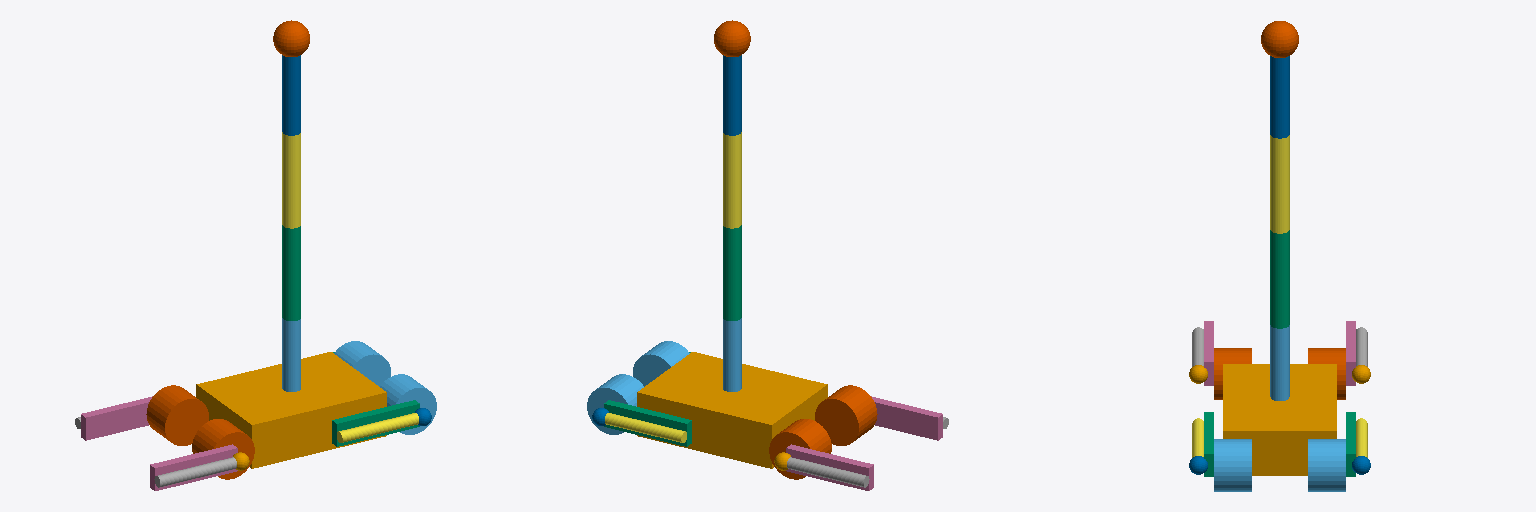
--- Facts derived from the render (not from the file) ---
3 views of the same robot in one strip: view 1: azimuth 30°, elevation 25°; view 2: azimuth 150°, elevation 25°; view 3: azimuth 270°, elevation 25° (orthographic).
Robot: spirit — 22 links, 21 joints (16 revolute, 5 fixed); root link body; default pose: every joint at zero.
Visible links, largest first — view 1: body, hip1, upper1, tail_link_1, tail_link_2, hip3, tail_link_3, hip2, upper2, upper3, hip0, tail_link_0 (+3 smaller); view 2: body, hip3, upper3, tail_link_1, tail_link_2, hip1, tail_link_3, hip0, upper0, upper1, hip2, tail_link_0 (+3 smaller); view 3: body, hip0, hip2, tail_link_1, tail_link_2, tail_link_3, tail_link_0, tail_mass, hip1, hip3, upper0, upper2 (+2 smaller).
Link boxes in pixels (box(x1,y1,x2,y2)): body: box(196, 352, 386, 468); hip1: box(146, 385, 208, 445); upper1: box(81, 396, 152, 440); tail_link_1: box(282, 225, 300, 320); tail_link_2: box(282, 132, 300, 228); hip3: box(192, 419, 254, 479); tail_link_3: box(282, 55, 300, 135); hip2: box(380, 374, 436, 434); upper2: box(332, 400, 419, 446); upper3: box(150, 444, 237, 490); hip0: box(334, 341, 390, 386); tail_link_0: box(282, 318, 300, 391); body: box(637, 352, 827, 468); hip3: box(815, 385, 877, 445); upper3: box(871, 396, 942, 440); tail_link_1: box(723, 225, 741, 320); tail_link_2: box(723, 132, 741, 228); hip1: box(769, 419, 831, 479); tail_link_3: box(723, 55, 741, 135); hip0: box(587, 374, 643, 434); upper0: box(604, 400, 691, 446); upper1: box(786, 444, 873, 490); hip2: box(633, 341, 689, 386); tail_link_0: box(723, 318, 741, 391); body: box(1223, 364, 1336, 475); hip0: box(1308, 439, 1345, 491); hip2: box(1214, 439, 1251, 491); tail_link_1: box(1270, 230, 1289, 328); tail_link_2: box(1270, 135, 1289, 233); tail_link_3: box(1270, 56, 1289, 138); tail_link_0: box(1270, 325, 1289, 400); tail_mass: box(1261, 21, 1298, 57); hip1: box(1308, 348, 1345, 399); hip3: box(1214, 348, 1251, 399); upper0: box(1346, 412, 1355, 476); upper2: box(1204, 412, 1213, 476).
Size in the robot's own frame: 0.7136 by 0.382 by 0.9766 metres.
Geometry: primitives only (box / cylinder / sphere), no mesh files.

The robot description file, URDF, robot "spirit":
<?xml version="1.0" encoding="utf-8"?>
<!-- =================================================================================== -->
<!-- |    This document was autogenerated by xacro from xacro/spirit_gazebo_tail.urdf.xacro | -->
<!-- |    EDITING THIS FILE BY HAND IS NOT RECOMMENDED                                 | -->
<!-- =================================================================================== -->
<!-- 
MIT License (modified)

Copyright (c) 2020 Ghost Robotics
Authors:
Avik De <[email redacted]>
Tom Jacobs <[email redacted]>

Permission is hereby granted, free of charge, to any person obtaining a copy
of this **file** (the "Software"), to deal
in the Software without restriction, including without limitation the rights
to use, copy, modify, merge, publish, distribute, sublicense, and/or sell
copies of the Software, and to permit persons to whom the Software is
furnished to do so, subject to the following conditions:

The above copyright notice and this permission notice shall be included in all
copies or substantial portions of the Software.

THE SOFTWARE IS PROVIDED "AS IS", WITHOUT WARRANTY OF ANY KIND, EXPRESS OR
IMPLIED, INCLUDING BUT NOT LIMITED TO THE WARRANTIES OF MERCHANTABILITY,
FITNESS FOR A PARTICULAR PURPOSE AND NONINFRINGEMENT. IN NO EVENT SHALL THE
AUTHORS OR COPYRIGHT HOLDERS BE LIABLE FOR ANY CLAIM, DAMAGES OR OTHER
LIABILITY, WHETHER IN AN ACTION OF CONTRACT, TORT OR OTHERWISE, ARISING FROM,
OUT OF OR IN CONNECTION WITH THE SOFTWARE OR THE USE OR OTHER DEALINGS IN THE
SOFTWARE. 
-->
<robot name="spirit">
  <!-- Plugins -->
  <gazebo>
    <plugin filename="libgazebo_ros_control.so" name="gazebo_ros_control">
      <robotNamespace>/spirit</robotNamespace>
      <controlPeriod>0.002</controlPeriod>
    </plugin>
    <plugin filename="libground_truth_estimator.so" name="ground_truth_estimator">
      <updateRateHz>500.0</updateRateHz>
    </plugin>
  </gazebo>
  <!--link name="body_dummy">
		<inertial>
			<mass value="${bodyMass}" />
			<inertia ixx="0.05" ixy="0" ixz="0" iyy="0.1" iyz="0" izz="0.1" />
		</inertial>
	</link>
	<joint name="dummy_joint" type="fixed">
		<parent link="body_dummy" />
		<child link="body" />
	</joint-->
  <!-- Body -->
  <link name="body">
    <visual>
      <origin rpy="0 0 0" xyz="0 0 0"/>
      <geometry>
        <box size="0.335 0.24 0.104"/>
      </geometry>
      <material name="darkgray"/>
    </visual>
    <inertial>
      <mass value="7.388"/>
      <!--<mass value="${bodyMass}" /> -->
      <!-- Uniform box -->
      <!-- <inertia ixx="1/12*${bodyMass}*(${bodyWidth}*${bodyWidth} + ${bodyHeight}*${bodyHeight})"  ixy="0"  ixz="0" iyy="1/12*${bodyMass}*(${bodyLength}*${bodyLength} + ${bodyHeight}*${bodyHeight})" iyz="0" izz="1/12*${bodyMass}*(${bodyLength}*${bodyLength} + ${bodyWidth}*${bodyWidth})"/> -->
      <inertia ixx="0.0642434782" ixy="0" ixz="0" iyy="0.1284869565" iyz="0" izz="0.1284869565"/>
      <!--<inertia ixx="0.05" ixy="0" ixz="0" iyy="0.1" iyz="0" izz="0.1" />-->
    </inertial>
    <!-- Just copy geometry for collision -->
    <collision>
      <origin rpy="0 0 0" xyz="0 0 0"/>
      <geometry>
        <box size="0.335 0.24 0.104"/>
      </geometry>
    </collision>
  </link>
  <gazebo reference="body">
    <material>Gazebo/Black</material>
  </gazebo>
  <!-- Hip motor -->
  <link name="hip0">
    <visual>
      <origin rpy="1.5707963268 0 0" xyz="0 0.028 0"/>
      <geometry>
        <cylinder length="0.08" radius="0.055"/>
      </geometry>
    </visual>
    <collision>
      <origin rpy="1.5707963268 0 0" xyz="0 0.028 0"/>
      <geometry>
        <cylinder length="0.08" radius="0.055"/>
      </geometry>
    </collision>
    <inertial>
      <origin rpy="1.5707963268 0 0" xyz="0 0.028 0"/>
      <mass value="0.575"/>
      <inertia ixx="0.000741510416667" ixy="0" ixz="0" iyy="0.000741510416667" iyz="0" izz="0.0008696875"/>
      <!-- Okay for now... forgot when cylinder is formed what direction is x pointing in -->
      <!--inertia ixx="0.00066963541" ixy="0" ixz="0" iyy="0.00066963541" iyz="0" izz="0.0008696875" /-->
    </inertial>
  </link>
  <gazebo reference="hip0">
    <material>Gazebo/Grey</material>
  </gazebo>
  <!-- Abduction joint. Joint names are: 8 9 10 11 -->
  <joint name="8" type="revolute">
    <parent link="body"/>
    <child link="hip0"/>
    <axis xyz="1 0 0"/>
    <origin xyz="0.2263 0.07 0"/>
    <limit effort="21" lower="-0.707" upper="0.707" velocity="37.7"/>
    <dynamics damping="0.0" friction="0.0"/>
  </joint>
  <!-- Transmission elements required for Gazebo -->
  <transmission name="transmission_8">
    <type>transmission_interface/SimpleTransmission</type>
    <joint name="8">
      <hardwareInterface>hardware_interface/EffortJointInterface</hardwareInterface>
    </joint>
    <actuator name="motor_8">
      <hardwareInterface>EffortJointInterface</hardwareInterface>
      <mechanicalReduction>1</mechanicalReduction>
    </actuator>
  </transmission>
  <!-- Upper leg -->
  <link name="upper0">
    <visual>
      <origin rpy="0 0 0" xyz="-0.103 -0.022 0"/>
      <geometry>
        <box size="0.206 0.022 0.055"/>
      </geometry>
      <material name="silver"/>
    </visual>
    <collision>
      <origin rpy="0 0 0" xyz="-0.103 -0.022 0"/>
      <geometry>
        <box size="0.206 0.022 0.055"/>
      </geometry>
    </collision>
    <inertial>
      <origin rpy="0 0 0" xyz="-0.103 -0.022 0"/>
      <mass value="0.792"/>
      <!--<inertia ixx="${upperLegIxx}" ixy="0" ixz="0" iyy="${upperLegIyy}" iyz="0" izz="${upperLegIzz}" /> -->
      <inertia ixx="0.000231594" ixy="0" ixz="0" iyy="0.003000426" iyz="0" izz="0.00283272"/>
    </inertial>
  </link>
  <gazebo reference="upper0">
    <self_collide>0</self_collide>
    <material>Gazebo/DarkGrey</material>
  </gazebo>
  <!-- Hip joint. (Motor to upper leg). Joint names are: 0 2 4 6 -->
  <joint name="0" type="revolute">
    <parent link="hip0"/>
    <child link="upper0"/>
    <axis xyz="0 -1 0"/>
    <origin xyz="0 0.10098 0"/>
    <!--  rpy="0 -0.3 0" -->
    <limit effort="21" lower="-1.57" upper="3.14" velocity="37.7"/>
    <dynamics damping="0.0" friction="0.0"/>
  </joint>
  <!-- Transmission elements required for Gazebo -->
  <transmission name="transmission_0">
    <type>transmission_interface/SimpleTransmission</type>
    <joint name="0">
      <hardwareInterface>hardware_interface/EffortJointInterface</hardwareInterface>
    </joint>
    <actuator name="motor_0">
      <hardwareInterface>EffortJointInterface</hardwareInterface>
      <mechanicalReduction>1</mechanicalReduction>
    </actuator>
  </transmission>
  <!-- Lower leg -->
  <link name="lower0">
    <self_collide>0</self_collide>
    <visual>
      <origin rpy="0 1.5707963268 0" xyz="0.103 0 0"/>
      <geometry>
        <cylinder length="0.206" radius="0.013"/>
      </geometry>
      <material name="darkgray"/>
    </visual>
    <collision>
      <origin rpy="0 1.5707963268 0" xyz="0.103 0 0"/>
      <geometry>
        <cylinder length="0.206" radius="0.013"/>
      </geometry>
    </collision>
    <inertial>
      <origin rpy="0 0 0" xyz="0.103 0 0"/>
      <mass value="0.075"/>
      <!--inertia ixx="${lowerLegIxx}" ixy="0" ixz="0" iyy="${lowerLegIyy}" iyz="0" izz="${lowerLegIzz}" /-->
      <inertia ixx="2.193125e-05" ixy="0" ixz="0" iyy="0.00028413125" iyz="0" izz="0.00026825"/>
    </inertial>
  </link>
  <gazebo reference="lower0">
    <material>Gazebo/Grey</material>
  </gazebo>
  <!-- Knee joint. Joint names are: 1 3 5 7 -->
  <joint name="1" type="revolute">
    <parent link="upper0"/>
    <child link="lower0"/>
    <axis xyz="0 1 0"/>
    <origin xyz="-0.206 0 0"/>
    <!--rpy="0 0.5 0"-->
    <!--<limit effort="${jointEffortLimit}" velocity="${jointSpeedLimit}" lower="0" upper="${pi}" />-->
    <limit effort="32" lower="-6.28" upper="6.28" velocity="25.1"/>
    <dynamics damping="0.0" friction="0.0"/>
  </joint>
  <!-- Transmission elements required for Gazebo -->
  <transmission name="transmission_1">
    <type>transmission_interface/SimpleTransmission</type>
    <joint name="1">
      <hardwareInterface>hardware_interface/EffortJointInterface</hardwareInterface>
    </joint>
    <actuator name="motor_1">
      <hardwareInterface>EffortJointInterface</hardwareInterface>
      <mechanicalReduction>1</mechanicalReduction>
    </actuator>
  </transmission>
  <!-- Toe -->
  <link name="toe0">
    <contact>
      <friction_anchor/>
      <stiffness value="30000.0"/>
      <damping value="1000.0"/>
      <spinning_friction value="0.3"/>
      <lateral_friction value="50.0"/>
    </contact>
    <visual>
      <origin rpy="0 0 0" xyz="0 0 0"/>
      <geometry>
        <sphere radius="0.02"/>
      </geometry>
      <material name="darkgray"/>
    </visual>
    <collision>
      <origin rpy="0 0 0" xyz="0 0 0"/>
      <geometry>
        <sphere radius="0.02"/>
      </geometry>
    </collision>
    <inertial>
      <mass value="0.015"/>
      <inertia ixx="0.000025" ixy="0" ixz="0" iyy="0.000025" iyz="0" izz="0.000025"/>
      <!-- <inertia ixx="2/5*${toeMass}*${toeRadius}*${toeRadius}"  ixy="0"  ixz="0" iyy="2/5*${toeMass}*${toeRadius}*${toeRadius}" iyz="0" izz="2/5*${toeMass}*${toeRadius}*${toeRadius}" /> -->
    </inertial>
  </link>
  <gazebo reference="toe0">
    <self_collide>0</self_collide>
    <material>Gazebo/Black</material>
    <collision>
      <surface>
        <bounce>
          <restitution_coefficient>0</restitution_coefficient>
          <threshold>1e+06</threshold>
        </bounce>
        <friction>
          <torsional>
            <coefficient>0.3</coefficient>
          </torsional>
          <ode>
            <mu>100.0</mu>
            <mu2>50.0</mu2>
          </ode>
          <bullet>
            <rolling_friction>0.3</rolling_friction>
            <friction2>50.0</friction2>
          </bullet>
        </friction>
        <contact>
          <bullet>
            <kp>30000.0</kp>
            <kd>1000.0</kd>
          </bullet>
          <ode>
            <kp>30000.0</kp>
            <kd>1000.0</kd>
          </ode>
        </contact>
      </surface>
    </collision>
  </gazebo>
  <joint name="jtoe0" type="fixed">
    <parent link="lower0"/>
    <child link="toe0"/>
    <origin xyz="0.206 0 -0.0"/>
    <dynamics damping="0.0" friction="0.0"/>
  </joint>
  <!-- Hip motor -->
  <link name="hip1">
    <visual>
      <origin rpy="1.5707963268 0 0" xyz="0 0.028 0"/>
      <geometry>
        <cylinder length="0.08" radius="0.055"/>
      </geometry>
    </visual>
    <collision>
      <origin rpy="1.5707963268 0 0" xyz="0 0.028 0"/>
      <geometry>
        <cylinder length="0.08" radius="0.055"/>
      </geometry>
    </collision>
    <inertial>
      <origin rpy="1.5707963268 0 0" xyz="0 0.028 0"/>
      <mass value="0.575"/>
      <inertia ixx="0.000741510416667" ixy="0" ixz="0" iyy="0.000741510416667" iyz="0" izz="0.0008696875"/>
      <!-- Okay for now... forgot when cylinder is formed what direction is x pointing in -->
      <!--inertia ixx="0.00066963541" ixy="0" ixz="0" iyy="0.00066963541" iyz="0" izz="0.0008696875" /-->
    </inertial>
  </link>
  <gazebo reference="hip1">
    <material>Gazebo/Grey</material>
  </gazebo>
  <!-- Abduction joint. Joint names are: 8 9 10 11 -->
  <joint name="9" type="revolute">
    <parent link="body"/>
    <child link="hip1"/>
    <axis xyz="1 0 0"/>
    <origin xyz="-0.2263 0.07 0"/>
    <limit effort="21" lower="-0.707" upper="0.707" velocity="37.7"/>
    <dynamics damping="0.0" friction="0.0"/>
  </joint>
  <!-- Transmission elements required for Gazebo -->
  <transmission name="transmission_9">
    <type>transmission_interface/SimpleTransmission</type>
    <joint name="9">
      <hardwareInterface>hardware_interface/EffortJointInterface</hardwareInterface>
    </joint>
    <actuator name="motor_9">
      <hardwareInterface>EffortJointInterface</hardwareInterface>
      <mechanicalReduction>1</mechanicalReduction>
    </actuator>
  </transmission>
  <!-- Upper leg -->
  <link name="upper1">
    <visual>
      <origin rpy="0 0 0" xyz="-0.103 -0.022 0"/>
      <geometry>
        <box size="0.206 0.022 0.055"/>
      </geometry>
      <material name="silver"/>
    </visual>
    <collision>
      <origin rpy="0 0 0" xyz="-0.103 -0.022 0"/>
      <geometry>
        <box size="0.206 0.022 0.055"/>
      </geometry>
    </collision>
    <inertial>
      <origin rpy="0 0 0" xyz="-0.103 -0.022 0"/>
      <mass value="0.792"/>
      <!--<inertia ixx="${upperLegIxx}" ixy="0" ixz="0" iyy="${upperLegIyy}" iyz="0" izz="${upperLegIzz}" /> -->
      <inertia ixx="0.000231594" ixy="0" ixz="0" iyy="0.003000426" iyz="0" izz="0.00283272"/>
    </inertial>
  </link>
  <gazebo reference="upper1">
    <self_collide>0</self_collide>
    <material>Gazebo/DarkGrey</material>
  </gazebo>
  <!-- Hip joint. (Motor to upper leg). Joint names are: 0 2 4 6 -->
  <joint name="2" type="revolute">
    <parent link="hip1"/>
    <child link="upper1"/>
    <axis xyz="0 -1 0"/>
    <origin xyz="0 0.10098 0"/>
    <!--  rpy="0 -0.3 0" -->
    <limit effort="21" lower="-1.57" upper="3.14" velocity="37.7"/>
    <dynamics damping="0.0" friction="0.0"/>
  </joint>
  <!-- Transmission elements required for Gazebo -->
  <transmission name="transmission_2">
    <type>transmission_interface/SimpleTransmission</type>
    <joint name="2">
      <hardwareInterface>hardware_interface/EffortJointInterface</hardwareInterface>
    </joint>
    <actuator name="motor_2">
      <hardwareInterface>EffortJointInterface</hardwareInterface>
      <mechanicalReduction>1</mechanicalReduction>
    </actuator>
  </transmission>
  <!-- Lower leg -->
  <link name="lower1">
    <self_collide>0</self_collide>
    <visual>
      <origin rpy="0 1.5707963268 0" xyz="0.103 0 0"/>
      <geometry>
        <cylinder length="0.206" radius="0.013"/>
      </geometry>
      <material name="darkgray"/>
    </visual>
    <collision>
      <origin rpy="0 1.5707963268 0" xyz="0.103 0 0"/>
      <geometry>
        <cylinder length="0.206" radius="0.013"/>
      </geometry>
    </collision>
    <inertial>
      <origin rpy="0 0 0" xyz="0.103 0 0"/>
      <mass value="0.075"/>
      <!--inertia ixx="${lowerLegIxx}" ixy="0" ixz="0" iyy="${lowerLegIyy}" iyz="0" izz="${lowerLegIzz}" /-->
      <inertia ixx="2.193125e-05" ixy="0" ixz="0" iyy="0.00028413125" iyz="0" izz="0.00026825"/>
    </inertial>
  </link>
  <gazebo reference="lower1">
    <material>Gazebo/Grey</material>
  </gazebo>
  <!-- Knee joint. Joint names are: 1 3 5 7 -->
  <joint name="3" type="revolute">
    <parent link="upper1"/>
    <child link="lower1"/>
    <axis xyz="0 1 0"/>
    <origin xyz="-0.206 0 0"/>
    <!--rpy="0 0.5 0"-->
    <!--<limit effort="${jointEffortLimit}" velocity="${jointSpeedLimit}" lower="0" upper="${pi}" />-->
    <limit effort="32" lower="-6.28" upper="6.28" velocity="25.1"/>
    <dynamics damping="0.0" friction="0.0"/>
  </joint>
  <!-- Transmission elements required for Gazebo -->
  <transmission name="transmission_3">
    <type>transmission_interface/SimpleTransmission</type>
    <joint name="3">
      <hardwareInterface>hardware_interface/EffortJointInterface</hardwareInterface>
    </joint>
    <actuator name="motor_3">
      <hardwareInterface>EffortJointInterface</hardwareInterface>
      <mechanicalReduction>1</mechanicalReduction>
    </actuator>
  </transmission>
  <!-- Toe -->
  <link name="toe1">
    <contact>
      <friction_anchor/>
      <stiffness value="30000.0"/>
      <damping value="1000.0"/>
      <spinning_friction value="0.3"/>
      <lateral_friction value="50.0"/>
    </contact>
    <visual>
      <origin rpy="0 0 0" xyz="0 0 0"/>
      <geometry>
        <sphere radius="0.02"/>
      </geometry>
      <material name="darkgray"/>
    </visual>
    <collision>
      <origin rpy="0 0 0" xyz="0 0 0"/>
      <geometry>
        <sphere radius="0.02"/>
      </geometry>
    </collision>
    <inertial>
      <mass value="0.015"/>
      <inertia ixx="0.000025" ixy="0" ixz="0" iyy="0.000025" iyz="0" izz="0.000025"/>
      <!-- <inertia ixx="2/5*${toeMass}*${toeRadius}*${toeRadius}"  ixy="0"  ixz="0" iyy="2/5*${toeMass}*${toeRadius}*${toeRadius}" iyz="0" izz="2/5*${toeMass}*${toeRadius}*${toeRadius}" /> -->
    </inertial>
  </link>
  <gazebo reference="toe1">
    <self_collide>0</self_collide>
    <material>Gazebo/Black</material>
    <collision>
      <surface>
        <bounce>
          <restitution_coefficient>0</restitution_coefficient>
          <threshold>1e+06</threshold>
        </bounce>
        <friction>
          <torsional>
            <coefficient>0.3</coefficient>
          </torsional>
          <ode>
            <mu>100.0</mu>
            <mu2>50.0</mu2>
          </ode>
          <bullet>
            <rolling_friction>0.3</rolling_friction>
            <friction2>50.0</friction2>
          </bullet>
        </friction>
        <contact>
          <bullet>
            <kp>30000.0</kp>
            <kd>1000.0</kd>
          </bullet>
          <ode>
            <kp>30000.0</kp>
            <kd>1000.0</kd>
          </ode>
        </contact>
      </surface>
    </collision>
  </gazebo>
  <joint name="jtoe1" type="fixed">
    <parent link="lower1"/>
    <child link="toe1"/>
    <origin xyz="0.206 0 -0.0"/>
    <dynamics damping="0.0" friction="0.0"/>
  </joint>
  <!-- Hip motor -->
  <link name="hip2">
    <visual>
      <origin rpy="1.5707963268 0 0" xyz="0 -0.028 0"/>
      <geometry>
        <cylinder length="0.08" radius="0.055"/>
      </geometry>
    </visual>
    <collision>
      <origin rpy="1.5707963268 0 0" xyz="0 -0.028 0"/>
      <geometry>
        <cylinder length="0.08" radius="0.055"/>
      </geometry>
    </collision>
    <inertial>
      <origin rpy="1.5707963268 0 0" xyz="0 -0.028 0"/>
      <mass value="0.575"/>
      <inertia ixx="0.000741510416667" ixy="0" ixz="0" iyy="0.000741510416667" iyz="0" izz="0.0008696875"/>
      <!-- Okay for now... forgot when cylinder is formed what direction is x pointing in -->
      <!--inertia ixx="0.00066963541" ixy="0" ixz="0" iyy="0.00066963541" iyz="0" izz="0.0008696875" /-->
    </inertial>
  </link>
  <gazebo reference="hip2">
    <material>Gazebo/Grey</material>
  </gazebo>
  <!-- Abduction joint. Joint names are: 8 9 10 11 -->
  <joint name="10" type="revolute">
    <parent link="body"/>
    <child link="hip2"/>
    <axis xyz="1 0 0"/>
    <origin xyz="0.2263 -0.07 0"/>
    <limit effort="21" lower="-0.707" upper="0.707" velocity="37.7"/>
    <dynamics damping="0.0" friction="0.0"/>
  </joint>
  <!-- Transmission elements required for Gazebo -->
  <transmission name="transmission_10">
    <type>transmission_interface/SimpleTransmission</type>
    <joint name="10">
      <hardwareInterface>hardware_interface/EffortJointInterface</hardwareInterface>
    </joint>
    <actuator name="motor_10">
      <hardwareInterface>EffortJointInterface</hardwareInterface>
      <mechanicalReduction>1</mechanicalReduction>
    </actuator>
  </transmission>
  <!-- Upper leg -->
  <link name="upper2">
    <visual>
      <origin rpy="0 0 0" xyz="-0.103 0.022 0"/>
      <geometry>
        <box size="0.206 0.022 0.055"/>
      </geometry>
      <material name="silver"/>
    </visual>
    <collision>
      <origin rpy="0 0 0" xyz="-0.103 0.022 0"/>
      <geometry>
        <box size="0.206 0.022 0.055"/>
      </geometry>
    </collision>
    <inertial>
      <origin rpy="0 0 0" xyz="-0.103 0.022 0"/>
      <mass value="0.792"/>
      <!--<inertia ixx="${upperLegIxx}" ixy="0" ixz="0" iyy="${upperLegIyy}" iyz="0" izz="${upperLegIzz}" /> -->
      <inertia ixx="0.000231594" ixy="0" ixz="0" iyy="0.003000426" iyz="0" izz="0.00283272"/>
    </inertial>
  </link>
  <gazebo reference="upper2">
    <self_collide>0</self_collide>
    <material>Gazebo/DarkGrey</material>
  </gazebo>
  <!-- Hip joint. (Motor to upper leg). Joint names are: 0 2 4 6 -->
  <joint name="4" type="revolute">
    <parent link="hip2"/>
    <child link="upper2"/>
    <axis xyz="0 -1 0"/>
    <origin xyz="0 -0.10098 0"/>
    <!--  rpy="0 -0.3 0" -->
    <limit effort="21" lower="-1.57" upper="3.14" velocity="37.7"/>
    <dynamics damping="0.0" friction="0.0"/>
  </joint>
  <!-- Transmission elements required for Gazebo -->
  <transmission name="transmission_4">
    <type>transmission_interface/SimpleTransmission</type>
    <joint name="4">
      <hardwareInterface>hardware_interface/EffortJointInterface</hardwareInterface>
    </joint>
    <actuator name="motor_4">
      <hardwareInterface>EffortJointInterface</hardwareInterface>
      <mechanicalReduction>1</mechanicalReduction>
    </actuator>
  </transmission>
  <!-- Lower leg -->
  <link name="lower2">
    <self_collide>0</self_collide>
    <visual>
      <origin rpy="0 1.5707963268 0" xyz="0.103 0 0"/>
      <geometry>
        <cylinder length="0.206" radius="0.013"/>
      </geometry>
      <material name="darkgray"/>
    </visual>
    <collision>
      <origin rpy="0 1.5707963268 0" xyz="0.103 0 0"/>
      <geometry>
        <cylinder length="0.206" radius="0.013"/>
      </geometry>
    </collision>
    <inertial>
      <origin rpy="0 0 0" xyz="0.103 0 0"/>
      <mass value="0.075"/>
      <!--inertia ixx="${lowerLegIxx}" ixy="0" ixz="0" iyy="${lowerLegIyy}" iyz="0" izz="${lowerLegIzz}" /-->
      <inertia ixx="2.193125e-05" ixy="0" ixz="0" iyy="0.00028413125" iyz="0" izz="0.00026825"/>
    </inertial>
  </link>
  <gazebo reference="lower2">
    <material>Gazebo/Grey</material>
  </gazebo>
  <!-- Knee joint. Joint names are: 1 3 5 7 -->
  <joint name="5" type="revolute">
    <parent link="upper2"/>
    <child link="lower2"/>
    <axis xyz="0 1 0"/>
    <origin xyz="-0.206 0 0"/>
    <!--rpy="0 0.5 0"-->
    <!--<limit effort="${jointEffortLimit}" velocity="${jointSpeedLimit}" lower="0" upper="${pi}" />-->
    <limit effort="32" lower="-6.28" upper="6.28" velocity="25.1"/>
    <dynamics damping="0.0" friction="0.0"/>
  </joint>
  <!-- Transmission elements required for Gazebo -->
  <transmission name="transmission_5">
    <type>transmission_interface/SimpleTransmission</type>
    <joint name="5">
      <hardwareInterface>hardware_interface/EffortJointInterface</hardwareInterface>
    </joint>
    <actuator name="motor_5">
      <hardwareInterface>EffortJointInterface</hardwareInterface>
      <mechanicalReduction>1</mechanicalReduction>
    </actuator>
  </transmission>
  <!-- Toe -->
  <link name="toe2">
    <contact>
      <friction_anchor/>
      <stiffness value="30000.0"/>
      <damping value="1000.0"/>
      <spinning_friction value="0.3"/>
      <lateral_friction value="50.0"/>
    </contact>
    <visual>
      <origin rpy="0 0 0" xyz="0 0 0"/>
      <geometry>
        <sphere radius="0.02"/>
      </geometry>
      <material name="darkgray"/>
    </visual>
    <collision>
      <origin rpy="0 0 0" xyz="0 0 0"/>
      <geometry>
        <sphere radius="0.02"/>
      </geometry>
    </collision>
    <inertial>
      <mass value="0.015"/>
      <inertia ixx="0.000025" ixy="0" ixz="0" iyy="0.000025" iyz="0" izz="0.000025"/>
      <!-- <inertia ixx="2/5*${toeMass}*${toeRadius}*${toeRadius}"  ixy="0"  ixz="0" iyy="2/5*${toeMass}*${toeRadius}*${toeRadius}" iyz="0" izz="2/5*${toeMass}*${toeRadius}*${toeRadius}" /> -->
    </inertial>
  </link>
  <gazebo reference="toe2">
    <self_collide>0</self_collide>
    <material>Gazebo/Black</material>
    <collision>
      <surface>
        <bounce>
          <restitution_coefficient>0</restitution_coefficient>
          <threshold>1e+06</threshold>
        </bounce>
        <friction>
          <torsional>
            <coefficient>0.3</coefficient>
          </torsional>
          <ode>
            <mu>100.0</mu>
            <mu2>50.0</mu2>
          </ode>
          <bullet>
            <rolling_friction>0.3</rolling_friction>
            <friction2>50.0</friction2>
          </bullet>
        </friction>
        <contact>
          <bullet>
            <kp>30000.0</kp>
            <kd>1000.0</kd>
          </bullet>
          <ode>
            <kp>30000.0</kp>
            <kd>1000.0</kd>
          </ode>
        </contact>
      </surface>
    </collision>
  </gazebo>
  <joint name="jtoe2" type="fixed">
    <parent link="lower2"/>
    <child link="toe2"/>
    <origin xyz="0.206 0 -0.0"/>
    <dynamics damping="0.0" friction="0.0"/>
  </joint>
  <!-- Hip motor -->
  <link name="hip3">
    <visual>
      <origin rpy="1.5707963268 0 0" xyz="0 -0.028 0"/>
      <geometry>
        <cylinder length="0.08" radius="0.055"/>
      </geometry>
    </visual>
    <collision>
      <origin rpy="1.5707963268 0 0" xyz="0 -0.028 0"/>
      <geometry>
        <cylinder length="0.08" radius="0.055"/>
      </geometry>
    </collision>
    <inertial>
      <origin rpy="1.5707963268 0 0" xyz="0 -0.028 0"/>
      <mass value="0.575"/>
      <inertia ixx="0.000741510416667" ixy="0" ixz="0" iyy="0.000741510416667" iyz="0" izz="0.0008696875"/>
      <!-- Okay for now... forgot when cylinder is formed what direction is x pointing in -->
      <!--inertia ixx="0.00066963541" ixy="0" ixz="0" iyy="0.00066963541" iyz="0" izz="0.0008696875" /-->
    </inertial>
  </link>
  <gazebo reference="hip3">
    <material>Gazebo/Grey</material>
  </gazebo>
  <!-- Abduction joint. Joint names are: 8 9 10 11 -->
  <joint name="11" type="revolute">
    <parent link="body"/>
    <child link="hip3"/>
    <axis xyz="1 0 0"/>
    <origin xyz="-0.2263 -0.07 0"/>
    <limit effort="21" lower="-0.707" upper="0.707" velocity="37.7"/>
    <dynamics damping="0.0" friction="0.0"/>
  </joint>
  <!-- Transmission elements required for Gazebo -->
  <transmission name="transmission_11">
    <type>transmission_interface/SimpleTransmission</type>
    <joint name="11">
      <hardwareInterface>hardware_interface/EffortJointInterface</hardwareInterface>
    </joint>
    <actuator name="motor_11">
      <hardwareInterface>EffortJointInterface</hardwareInterface>
      <mechanicalReduction>1</mechanicalReduction>
    </actuator>
  </transmission>
  <!-- Upper leg -->
  <link name="upper3">
    <visual>
      <origin rpy="0 0 0" xyz="-0.103 0.022 0"/>
      <geometry>
        <box size="0.206 0.022 0.055"/>
      </geometry>
      <material name="silver"/>
    </visual>
    <collision>
      <origin rpy="0 0 0" xyz="-0.103 0.022 0"/>
      <geometry>
        <box size="0.206 0.022 0.055"/>
      </geometry>
    </collision>
    <inertial>
      <origin rpy="0 0 0" xyz="-0.103 0.022 0"/>
      <mass value="0.792"/>
      <!--<inertia ixx="${upperLegIxx}" ixy="0" ixz="0" iyy="${upperLegIyy}" iyz="0" izz="${upperLegIzz}" /> -->
      <inertia ixx="0.000231594" ixy="0" ixz="0" iyy="0.003000426" iyz="0" izz="0.00283272"/>
    </inertial>
  </link>
  <gazebo reference="upper3">
    <self_collide>0</self_collide>
    <material>Gazebo/DarkGrey</material>
  </gazebo>
  <!-- Hip joint. (Motor to upper leg). Joint names are: 0 2 4 6 -->
  <joint name="6" type="revolute">
    <parent link="hip3"/>
    <child link="upper3"/>
    <axis xyz="0 -1 0"/>
    <origin xyz="0 -0.10098 0"/>
    <!--  rpy="0 -0.3 0" -->
    <limit effort="21" lower="-1.57" upper="3.14" velocity="37.7"/>
    <dynamics damping="0.0" friction="0.0"/>
  </joint>
  <!-- Transmission elements required for Gazebo -->
  <transmission name="transmission_6">
    <type>transmission_interface/SimpleTransmission</type>
    <joint name="6">
      <hardwareInterface>hardware_interface/EffortJointInterface</hardwareInterface>
    </joint>
    <actuator name="motor_6">
      <hardwareInterface>EffortJointInterface</hardwareInterface>
      <mechanicalReduction>1</mechanicalReduction>
    </actuator>
  </transmission>
  <!-- Lower leg -->
  <link name="lower3">
    <self_collide>0</self_collide>
    <visual>
      <origin rpy="0 1.5707963268 0" xyz="0.103 0 0"/>
      <geometry>
        <cylinder length="0.206" radius="0.013"/>
      </geometry>
      <material name="darkgray"/>
    </visual>
    <collision>
      <origin rpy="0 1.5707963268 0" xyz="0.103 0 0"/>
      <geometry>
        <cylinder length="0.206" radius="0.013"/>
      </geometry>
    </collision>
    <inertial>
      <origin rpy="0 0 0" xyz="0.103 0 0"/>
      <mass value="0.075"/>
      <!--inertia ixx="${lowerLegIxx}" ixy="0" ixz="0" iyy="${lowerLegIyy}" iyz="0" izz="${lowerLegIzz}" /-->
      <inertia ixx="2.193125e-05" ixy="0" ixz="0" iyy="0.00028413125" iyz="0" izz="0.00026825"/>
    </inertial>
  </link>
  <gazebo reference="lower3">
    <material>Gazebo/Grey</material>
  </gazebo>
  <!-- Knee joint. Joint names are: 1 3 5 7 -->
  <joint name="7" type="revolute">
    <parent link="upper3"/>
    <child link="lower3"/>
    <axis xyz="0 1 0"/>
    <origin xyz="-0.206 0 0"/>
    <!--rpy="0 0.5 0"-->
    <!--<limit effort="${jointEffortLimit}" velocity="${jointSpeedLimit}" lower="0" upper="${pi}" />-->
    <limit effort="32" lower="-6.28" upper="6.28" velocity="25.1"/>
    <dynamics damping="0.0" friction="0.0"/>
  </joint>
  <!-- Transmission elements required for Gazebo -->
  <transmission name="transmission_7">
    <type>transmission_interface/SimpleTransmission</type>
    <joint name="7">
      <hardwareInterface>hardware_interface/EffortJointInterface</hardwareInterface>
    </joint>
    <actuator name="motor_7">
      <hardwareInterface>EffortJointInterface</hardwareInterface>
      <mechanicalReduction>1</mechanicalReduction>
    </actuator>
  </transmission>
  <!-- Toe -->
  <link name="toe3">
    <contact>
      <friction_anchor/>
      <stiffness value="30000.0"/>
      <damping value="1000.0"/>
      <spinning_friction value="0.3"/>
      <lateral_friction value="50.0"/>
    </contact>
    <visual>
      <origin rpy="0 0 0" xyz="0 0 0"/>
      <geometry>
        <sphere radius="0.02"/>
      </geometry>
      <material name="darkgray"/>
    </visual>
    <collision>
      <origin rpy="0 0 0" xyz="0 0 0"/>
      <geometry>
        <sphere radius="0.02"/>
      </geometry>
    </collision>
    <inertial>
      <mass value="0.015"/>
      <inertia ixx="0.000025" ixy="0" ixz="0" iyy="0.000025" iyz="0" izz="0.000025"/>
      <!-- <inertia ixx="2/5*${toeMass}*${toeRadius}*${toeRadius}"  ixy="0"  ixz="0" iyy="2/5*${toeMass}*${toeRadius}*${toeRadius}" iyz="0" izz="2/5*${toeMass}*${toeRadius}*${toeRadius}" /> -->
    </inertial>
  </link>
  <gazebo reference="toe3">
    <self_collide>0</self_collide>
    <material>Gazebo/Black</material>
    <collision>
      <surface>
        <bounce>
          <restitution_coefficient>0</restitution_coefficient>
          <threshold>1e+06</threshold>
        </bounce>
        <friction>
          <torsional>
            <coefficient>0.3</coefficient>
          </torsional>
          <ode>
            <mu>100.0</mu>
            <mu2>50.0</mu2>
          </ode>
          <bullet>
            <rolling_friction>0.3</rolling_friction>
            <friction2>50.0</friction2>
          </bullet>
        </friction>
        <contact>
          <bullet>
            <kp>30000.0</kp>
            <kd>1000.0</kd>
          </bullet>
          <ode>
            <kp>30000.0</kp>
            <kd>1000.0</kd>
          </ode>
        </contact>
      </surface>
    </collision>
  </gazebo>
  <joint name="jtoe3" type="fixed">
    <parent link="lower3"/>
    <child link="toe3"/>
    <origin xyz="0.206 0 -0.0"/>
    <dynamics damping="0.0" friction="0.0"/>
  </joint>
  <!-- Toe Plugins -->
  <gazebo reference="toe0">
    <sensor name="toe0_contact" type="contact">
      <plugin filename="libgazebo_ros_bumper.so" name="toe0_plugin">
        <alwaysOn>true</alwaysOn>
        <updateRate>500</updateRate>
        <bumperTopicName>gazebo/toe0_contact_state</bumperTopicName>
        <frameName>world</frameName>
      </plugin>
      <contact>
        <collision>toe0_collision</collision>
      </contact>
      <update_rate>500</update_rate>
    </sensor>
  </gazebo>
  <gazebo reference="toe1">
    <sensor name="toe1_contact" type="contact">
      <plugin filename="libgazebo_ros_bumper.so" name="toe1_plugin">
        <alwaysOn>true</alwaysOn>
        <updateRate>500</updateRate>
        <bumperTopicName>gazebo/toe1_contact_state</bumperTopicName>
        <frameName>world</frameName>
      </plugin>
      <contact>
        <collision>toe1_collision</collision>
      </contact>
      <update_rate>500</update_rate>
    </sensor>
  </gazebo>
  <gazebo reference="toe2">
    <sensor name="toe2_contact" type="contact">
      <plugin filename="libgazebo_ros_bumper.so" name="toe2_plugin">
        <alwaysOn>true</alwaysOn>
        <updateRate>500</updateRate>
        <bumperTopicName>gazebo/toe2_contact_state</bumperTopicName>
        <frameName>world</frameName>
      </plugin>
      <contact>
        <collision>toe2_collision</collision>
      </contact>
      <update_rate>500</update_rate>
    </sensor>
  </gazebo>
  <gazebo reference="toe3">
    <sensor name="toe3_contact" type="contact">
      <plugin filename="libgazebo_ros_bumper.so" name="toe3_plugin">
        <alwaysOn>true</alwaysOn>
        <updateRate>500</updateRate>
        <bumperTopicName>gazebo/toe3_contact_state</bumperTopicName>
        <frameName>world</frameName>
      </plugin>
      <contact>
        <collision>toe3_collision</collision>
      </contact>
      <update_rate>500</update_rate>
    </sensor>
  </gazebo>
  <!-- Preserve fixed joints -->
  <gazebo reference="jtoe0">
    <preserveFixedJoint>true</preserveFixedJoint>
  </gazebo>
  <gazebo reference="jtoe1">
    <preserveFixedJoint>true</preserveFixedJoint>
  </gazebo>
  <gazebo reference="jtoe2">
    <preserveFixedJoint>true</preserveFixedJoint>
  </gazebo>
  <gazebo reference="jtoe3">
    <preserveFixedJoint>true</preserveFixedJoint>
  </gazebo>
  <!-- TAIL -->
  <!-- Remark: Need to incorporate reasonable mass & inertia calc wrt tailLength -->
  <!-- Tail Links -->
  <link name="tail_link_0">
    <visual>
      <origin rpy="0 0 0" xyz="0 0 0.1102"/>
      <geometry>
        <cylinder length="0.2204" radius="0.02"/>
      </geometry>
      <material name="gray"/>
    </visual>
    <inertial>
      <origin rpy="0 0 0" xyz="0 0 0.1102"/>
      <mass value="0.001"/>
      <!--<inertia ixx="${tailLinkMass/12*(3*0.02*0.02 + tailLength*tailLength)}" ixy="0" ixz="0" iyy="${tailLinkMass/12*(3*0.02*0.02 + tailLength*tailLength)}" iyz="0.0" izz="${tailLinkMass*(0.02*0.02)/2}" /> -->
      <!-- Assume inertia of a sphere & scale base of 2/5MR^2 -->
      <inertia ixx="6.25e-06" ixy="0" ixz="0" iyy="6.25e-06" iyz="0" izz="6.25e-06"/>
    </inertial>
    <!-- No need to add collision boxes for this -->
  </link>
  <gazebo reference="tail_link_0">
    <material>Gazebo/Gray</material>
  </gazebo>
  <link name="tail_link_1">
    <visual>
      <origin rpy="0 0 0" xyz="0 0 0.1102"/>
      <geometry>
        <cylinder length="0.2204" radius="0.02"/>
      </geometry>
      <material name="gray"/>
    </visual>
    <inertial>
      <origin rpy="0 0 0" xyz="0 0 0.1102"/>
      <mass value="0.001"/>
      <inertia ixx="6.25e-06" ixy="0" ixz="0" iyy="6.25e-06" iyz="0" izz="6.25e-06"/>
    </inertial>
  </link>
  <gazebo reference="tail_link_1">
    <material>Gazebo/Gray</material>
  </gazebo>
  <link name="tail_link_2">
    <visual>
      <origin rpy="0 0 0" xyz="0 0 0.1102"/>
      <geometry>
        <cylinder length="0.2204" radius="0.02"/>
      </geometry>
      <material name="gray"/>
    </visual>
    <inertial>
      <origin rpy="0 0 0" xyz="0 0 0.1102"/>
      <mass value="0.001"/>
      <inertia ixx="6.25e-06" ixy="0" ixz="0" iyy="6.25e-06" iyz="0" izz="6.25e-06"/>
    </inertial>
  </link>
  <gazebo reference="tail_link_2">
    <material>Gazebo/Gray</material>
  </gazebo>
  <link name="tail_link_3">
    <visual>
      <origin rpy="0 0 0" xyz="0 0 0.1102"/>
      <geometry>
        <cylinder length="0.2204" radius="0.02"/>
      </geometry>
      <material name="gray"/>
    </visual>
    <inertial>
      <origin rpy="0 0 0" xyz="0 0 0.1102"/>
      <mass value="0.001"/>
      <inertia ixx="6.25e-06" ixy="0" ixz="0" iyy="6.25e-06" iyz="0" izz="6.25e-06"/>
    </inertial>
  </link>
  <gazebo reference="tail_link_3">
    <material>Gazebo/Gray</material>
  </gazebo>
  <!--
	<link name="tail_link_4">
		<visual>
			<origin rpy="0 0 0" xyz="0 0 ${tailLength/2}" />
			<geometry>
				<cylinder radius="0.02" length="${tailLength}" />
			</geometry>
			<material name="gray" />
		</visual>
		<inertial>
			<origin xyz="0 0 ${tailLength/2}" rpy="0 0 0" />
			<mass value="${tailLinkMass}" />
			<inertia ixx="${1e-04/(tailNum*tailNum)}" ixy="0" ixz="0" iyy="${1e-04/(tailNum*tailNum)}" iyz="0" izz="${1e-04/(tailNum*tailNum)}" />
		</inertial>
	</link>

	<gazebo reference="tail_link_4">
		<material>Gazebo/Gray</material>
	</gazebo>

	<link name="tail_link_5">
		<visual>
			<origin rpy="0 0 0" xyz="0 0 ${tailLength/2}" />
			<geometry>
				<cylinder radius="0.02" length="${tailLength}" />
			</geometry>
			<material name="gray" />
		</visual>
		<inertial>
			<origin xyz="0 0 ${tailLength/2}" rpy="0 0 0" />
			<mass value="${tailLinkMass}" />
			<inertia ixx="${1e-04/(tailNum*tailNum)}" ixy="0" ixz="0" iyy="${1e-04/(tailNum*tailNum)}" iyz="0" izz="${1e-04/(tailNum*tailNum)}" />
		</inertial>
	</link>

	<gazebo reference="tail_link_5">
		<material>Gazebo/Gray</material>
	</gazebo>

	<link name="tail_link_6">
		<visual>
			<origin rpy="0 0 0" xyz="0 0 ${tailLength/2}" />
			<geometry>
				<cylinder radius="0.02" length="${tailLength}" />
			</geometry>
			<material name="gray" />
		</visual>
		<inertial>
			<origin xyz="0 0 ${tailLength/2}" rpy="0 0 0" />
			<mass value="${tailLinkMass}" />
			<inertia ixx="${1e-04/(tailNum*tailNum)}" ixy="0" ixz="0" iyy="${1e-04/(tailNum*tailNum)}" iyz="0" izz="${1e-04/(tailNum*tailNum)}" />
		</inertial>
	</link>

	<gazebo reference="tail_link_6">
		<material>Gazebo/Gray</material>
	</gazebo>

	<link name="tail_link_7">
		<visual>
			<origin rpy="0 0 0" xyz="0 0 ${tailLength/2}" />
			<geometry>
				<cylinder radius="0.02" length="${tailLength}" />
			</geometry>
			<material name="gray" />
		</visual>
		<inertial>
			<origin xyz="0 0 ${tailLength/2}" rpy="0 0 0" />
			<mass value="${tailLinkMass}" />
			<inertia ixx="${1e-04/(tailNum*tailNum)}" ixy="0" ixz="0" iyy="${1e-04/(tailNum*tailNum)}" iyz="0" izz="${1e-04/(tailNum*tailNum)}" />
		</inertial>
	</link>

	<gazebo reference="tail_link_7">
		<material>Gazebo/Gray</material>
	</gazebo>

	<link name="tail_link_8">
		<visual>
			<origin rpy="0 0 0" xyz="0 0 ${tailLength/2}" />
			<geometry>
				<cylinder radius="0.02" length="${tailLength}" />
			</geometry>
			<material name="gray" />
		</visual>
		<inertial>
			<origin xyz="0 0 ${tailLength/2}" rpy="0 0 0" />
			<mass value="${tailLinkMass}" />
			<inertia ixx="${1e-04/(tailNum*tailNum)}" ixy="0" ixz="0" iyy="${1e-04/(tailNum*tailNum)}" iyz="0" izz="${1e-04/(tailNum*tailNum)}" />
		</inertial>
	</link>

	<gazebo reference="tail_link_8">
		<material>Gazebo/Gray</material>
	</gazebo>

	<link name="tail_link_9">
		<visual>
			<origin rpy="0 0 0" xyz="0 0 ${tailLength/2}" />
			<geometry>
				<cylinder radius="0.02" length="${tailLength}" />
			</geometry>
			<material name="gray" />
		</visual>
		<inertial>
			<origin xyz="0 0 ${tailLength/2}" rpy="0 0 0" />
			<mass value="${tailLinkMass}" />
			<inertia ixx="${1e-04/(tailNum*tailNum)}" ixy="0" ixz="0" iyy="${1e-04/(tailNum*tailNum)}" iyz="0" izz="${1e-04/(tailNum*tailNum)}" />
		</inertial>
	</link>

	<gazebo reference="tail_link_9">
		<material>Gazebo/Gray</material>
	</gazebo> -->
  <link name="tail_mass">
    <visual>
      <origin rpy="0 0 0" xyz="0 0 0"/>
      <geometry>
        <sphere radius="0.04"/>
      </geometry>
      <material name="gray"/>
    </visual>
    <inertial>
      <mass value="0.2764"/>
      <inertia ixx="2.764e-04" ixy="0" ixz="0" iyy="2.764e-04" iyz="0" izz="2.764e-04"/>
    </inertial>
    <collision>
      <origin rpy="0 0 0" xyz=" 0 0 0"/>
      <geometry>
        <sphere radius="0.04"/>
      </geometry>
    </collision>
  </link>
  <gazebo reference="tail_mass">
    <material>Gazebo/Gray</material>
  </gazebo>
  <!-- Tail Joints -->
  <!-- Non-planar Tail -->
  <!--<joint name="body_tail_joint_0" type="revolute">
		<parent link="body" />
		<child link="tail_link_0" />
		<axis xyz="1 0 0" />
		<origin xyz="0 0 0" rpy="0 0 0" />
		<limit effort="50" lower="-1.57" upper="1.57" velocity="40" />
		<dynamics damping="0.0" friction="0.0" />
	</joint>-->
  <!-- Planar Tail -->
  <joint name="body_tail_joint_0" type="revolute">
    <parent link="body"/>
    <child link="tail_link_0"/>
    <axis xyz="0 1 0"/>
    <origin rpy="0 0 0" xyz="0 0 0"/>
    <limit effort="50" lower="-1.57" upper="1.57" velocity="40"/>
    <dynamics damping="0.0" friction="0.0"/>
  </joint>
  <joint name="body_tail_joint_1" type="revolute">
    <parent link="tail_link_0"/>
    <child link="tail_link_1"/>
    <axis xyz="0 1 0"/>
    <origin rpy="0 0 0" xyz="0 0 0.2204"/>
    <limit effort="50" lower="-1.57" upper="1.57" velocity="40"/>
    <dynamics damping="0.0" friction="0.0"/>
  </joint>
  <joint name="body_tail_joint_2" type="revolute">
    <parent link="tail_link_1"/>
    <child link="tail_link_2"/>
    <axis xyz="0 1 0"/>
    <origin rpy="0 0 0" xyz="0 0 0.2204"/>
    <limit effort="50" lower="-1.57" upper="1.57" velocity="40"/>
    <dynamics damping="0.0" friction="0.0"/>
  </joint>
  <joint name="body_tail_joint_3" type="revolute">
    <parent link="tail_link_2"/>
    <child link="tail_link_3"/>
    <axis xyz="0 1 0"/>
    <origin rpy="0 0 0" xyz="0 0 0.2204"/>
    <limit effort="50" lower="-1.57" upper="1.57" velocity="40"/>
    <dynamics damping="0.0" friction="0.0"/>
  </joint>
  <!--
	<joint name="body_tail_joint_4" type="revolute">
		<parent link="tail_link_3" />
		<child link="tail_link_4" />
		<axis xyz="0 1 0" />
		<origin xyz="0 0 ${tailLength}" rpy="0 0 0" />
		<limit effort="50" lower="-1.57" upper="1.57" velocity="40" />
		<dynamics damping="0.0" friction="0.0" />
	</joint>

	<joint name="body_tail_joint_5" type="revolute">
		<parent link="tail_link_4" />
		<child link="tail_link_5" />
		<axis xyz="0 1 0" />
		<origin xyz="0 0 ${tailLength}" rpy="0 0 0" />
		<limit effort="50" lower="-1.57" upper="1.57" velocity="40" />
		<dynamics damping="0.0" friction="0.0" />
	</joint>

	<joint name="body_tail_joint_6" type="revolute">
		<parent link="tail_link_5" />
		<child link="tail_link_6" />
		<axis xyz="0 1 0" />
		<origin xyz="0 0 ${tailLength}" rpy="0 0 0" />
		<limit effort="50" lower="-1.57" upper="1.57" velocity="40" />
		<dynamics damping="0.0" friction="0.0" />
	</joint>

	<joint name="body_tail_joint_7" type="revolute">
		<parent link="tail_link_6" />
		<child link="tail_link_7" />
		<axis xyz="0 1 0" />
		<origin xyz="0 0 ${tailLength}" rpy="0 0 0" />
		<limit effort="50" lower="-1.57" upper="1.57" velocity="40" />
		<dynamics damping="0.0" friction="0.0" />
	</joint>

	<joint name="body_tail_joint_8" type="revolute">
		<parent link="tail_link_7" />
		<child link="tail_link_8" />
		<axis xyz="0 1 0" />
		<origin xyz="0 0 ${tailLength}" rpy="0 0 0" />
		<limit effort="50" lower="-1.57" upper="1.57" velocity="40" />
		<dynamics damping="0.0" friction="0.0" />
	</joint>

	<joint name="body_tail_joint_9" type="revolute">
		<parent link="tail_link_8" />
		<child link="tail_link_9" />
		<axis xyz="0 1 0" />
		<origin xyz="0 0 ${tailLength}" rpy="0 0 0" />
		<limit effort="50" lower="-1.57" upper="1.57" velocity="40" />
		<dynamics damping="0.0" friction="0.0" />
	</joint> -->
  <joint name="tail_link_mass_joint" type="fixed">
    <parent link="tail_link_3"/>
    <child link="tail_mass"/>
    <origin xyz="0 0 0.2204"/>
    <dynamic damping="0.0" friction="0.0"/>
  </joint>
  <!-- Transmission Elements Required for Gazebo Control -->
  <transmission name="transmission_body_tail_joint_0">
    <type>transmission_interface/SimpleTransmission</type>
    <joint name="body_tail_joint_0">
      <hardwareInterface>hardware_interface/EffortJointInterface</hardwareInterface>
    </joint>
    <actuator name="motor_body_tail_joint_0">
      <hardwareInterface>hardware_interface/EffortJointInterface</hardwareInterface>
      <mechanicalReduction>1</mechanicalReduction>
    </actuator>
  </transmission>
  <transmission name="transmission_body_tail_joint_1">
    <type>transmission_interface/SimpleTransmission</type>
    <joint name="body_tail_joint_1">
      <hardwareInterface>hardware_interface/EffortJointInterface</hardwareInterface>
    </joint>
    <actuator name="motor_body_tail_joint_1">
      <hardwareInterface>hardware_interface/EffortJointInterface</hardwareInterface>
      <mechanicalReduction>1</mechanicalReduction>
    </actuator>
  </transmission>
  <transmission name="transmission_body_tail_joint_2">
    <type>transmission_interface/SimpleTransmission</type>
    <joint name="body_tail_joint_2">
      <hardwareInterface>hardware_interface/EffortJointInterface</hardwareInterface>
    </joint>
    <actuator name="motor_body_tail_joint_2">
      <hardwareInterface>hardware_interface/EffortJointInterface</hardwareInterface>
      <mechanicalReduction>1</mechanicalReduction>
    </actuator>
  </transmission>
  <transmission name="transmission_body_tail_joint_3">
    <type>transmission_interface/SimpleTransmission</type>
    <joint name="body_tail_joint_3">
      <hardwareInterface>hardware_interface/EffortJointInterface</hardwareInterface>
    </joint>
    <actuator name="motor_body_tail_joint_3">
      <hardwareInterface>hardware_interface/EffortJointInterface</hardwareInterface>
      <mechanicalReduction>1</mechanicalReduction>
    </actuator>
  </transmission>
  <!--
	<transmission name="transmission_body_tail_joint_4">
		<type>transmission_interface/SimpleTransmission</type>
		<joint name="body_tail_joint_4">
			<hardwareInterface>hardware_interface/EffortJointInterface</hardwareInterface>
		</joint>
		<actuator name="motor_body_tail_joint_4">
			<hardwareInterface>hardware_interface/EffortJointInterface</hardwareInterface>
			<mechanicalReduction>1</mechanicalReduction>
		</actuator>
	</transmission>

	<transmission name="transmission_body_tail_joint_5">
		<type>transmission_interface/SimpleTransmission</type>
		<joint name="body_tail_joint_5">
			<hardwareInterface>hardware_interface/EffortJointInterface</hardwareInterface>
		</joint>
		<actuator name="motor_body_tail_joint_5">
			<hardwareInterface>hardware_interface/EffortJointInterface</hardwareInterface>
			<mechanicalReduction>1</mechanicalReduction>
		</actuator>
	</transmission>

	<transmission name="transmission_body_tail_joint_6">
		<type>transmission_interface/SimpleTransmission</type>
		<joint name="body_tail_joint_6">
			<hardwareInterface>hardware_interface/EffortJointInterface</hardwareInterface>
		</joint>
		<actuator name="motor_body_tail_joint_6">
			<hardwareInterface>hardware_interface/EffortJointInterface</hardwareInterface>
			<mechanicalReduction>1</mechanicalReduction>
		</actuator>
	</transmission>

	<transmission name="transmission_body_tail_joint_7">
		<type>transmission_interface/SimpleTransmission</type>
		<joint name="body_tail_joint_7">
			<hardwareInterface>hardware_interface/EffortJointInterface</hardwareInterface>
		</joint>
		<actuator name="motor_body_tail_joint_7">
			<hardwareInterface>hardware_interface/EffortJointInterface</hardwareInterface>
			<mechanicalReduction>1</mechanicalReduction>
		</actuator>
	</transmission>

	<transmission name="transmission_body_tail_joint_8">
		<type>transmission_interface/SimpleTransmission</type>
		<joint name="body_tail_joint_8">
			<hardwareInterface>hardware_interface/EffortJointInterface</hardwareInterface>
		</joint>
		<actuator name="motor_body_tail_joint_8">
			<hardwareInterface>hardware_interface/EffortJointInterface</hardwareInterface>
			<mechanicalReduction>1</mechanicalReduction>
		</actuator>
	</transmission>

	<transmission name="transmission_body_tail_joint_9">
		<type>transmission_interface/SimpleTransmission</type>
		<joint name="body_tail_joint_9">
			<hardwareInterface>hardware_interface/EffortJointInterface</hardwareInterface>
		</joint>
		<actuator name="motor_body_tail_joint_9">
			<hardwareInterface>hardware_interface/EffortJointInterface</hardwareInterface>
			<mechanicalReduction>1</mechanicalReduction>
		</actuator>
	</transmission> -->
</robot>
